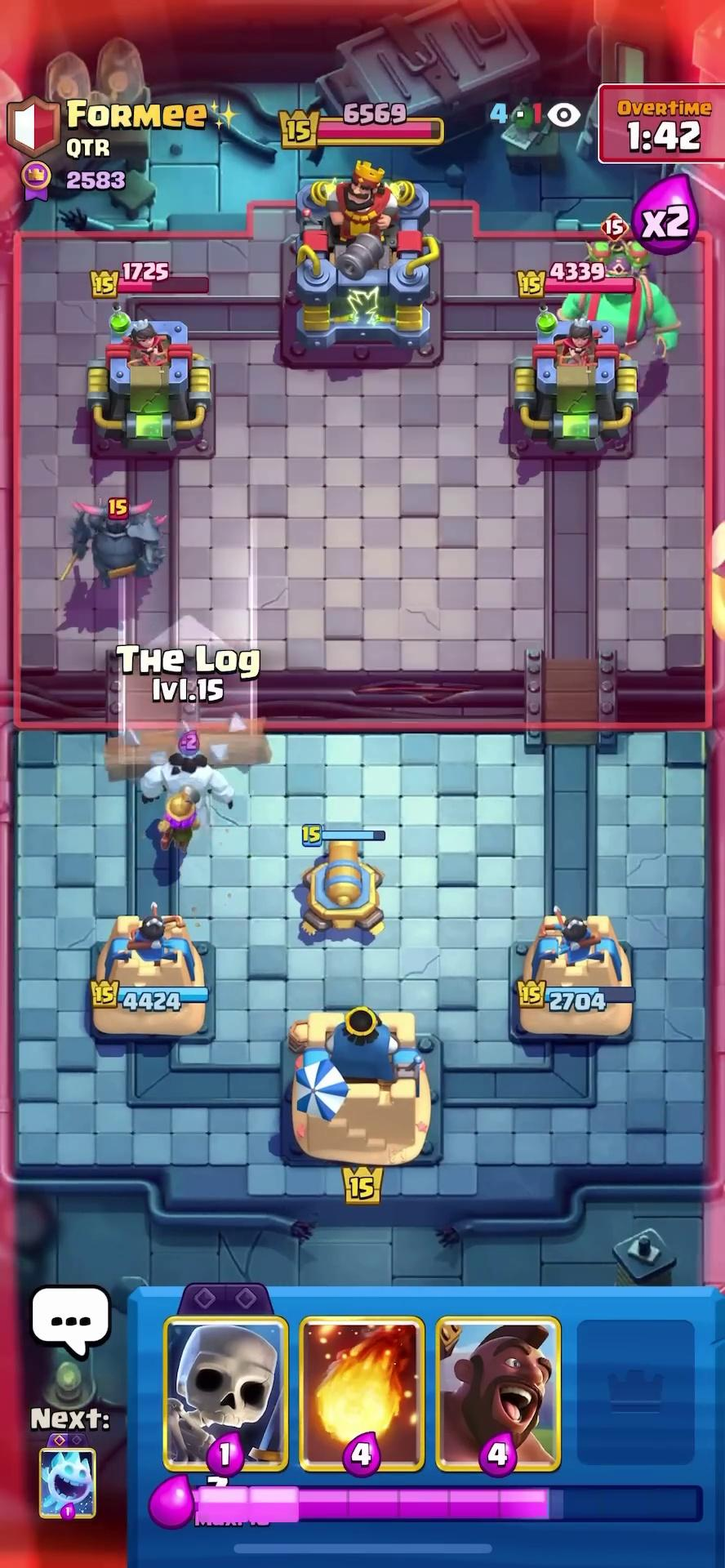cannon: (288, 825, 398, 937)
ice_golem: (120, 741, 235, 808)
musketeer: (143, 784, 206, 858)
